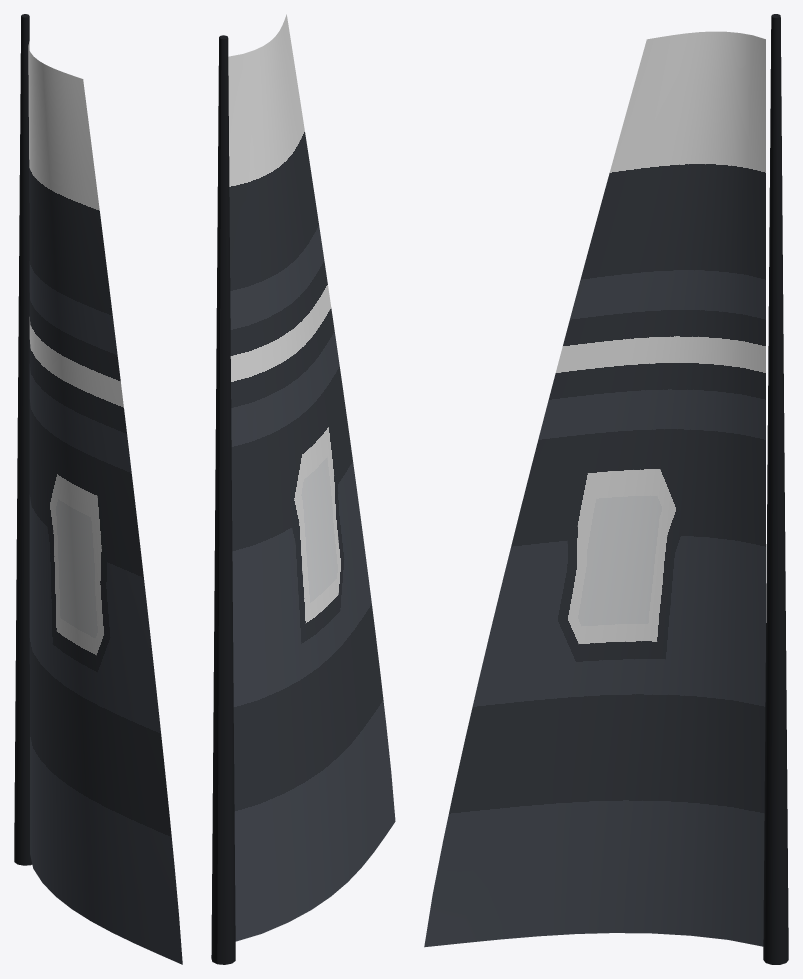
Rendered from rig_6_p.glb.
3 renders of one model, left to right at view 1: azimuth 30°, elevation 25°; view 2: azimuth 150°, elevation 25°; view 3: azimuth 270°, elevation 25°, orthographic. The views are drawn at different scales.
Parts seen in each view (by area): view 1: rig_6_p_body; view 2: rig_6_p_body; view 3: rig_6_p_body.
Boxes of the visible parts, x1,y1,x2,y2 form: rig_6_p_body: [14, 14, 182, 964]; rig_6_p_body: [211, 14, 395, 964]; rig_6_p_body: [424, 14, 788, 964].
Size of the model in its own units: 1.15 by 26.2 by 9.17.
1 material, 1 textured.
